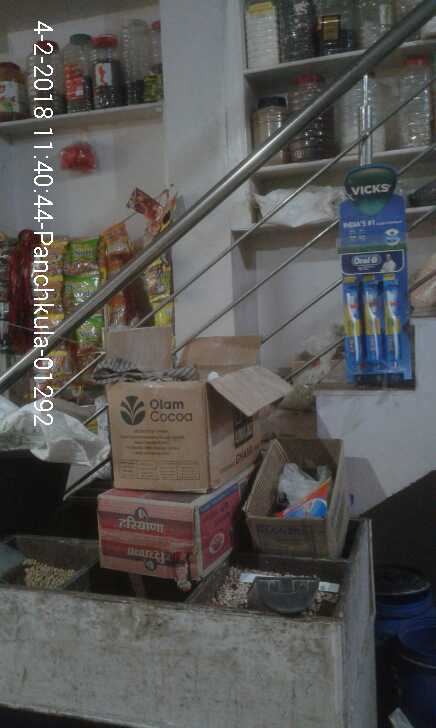oralb: (344, 277, 403, 370)
